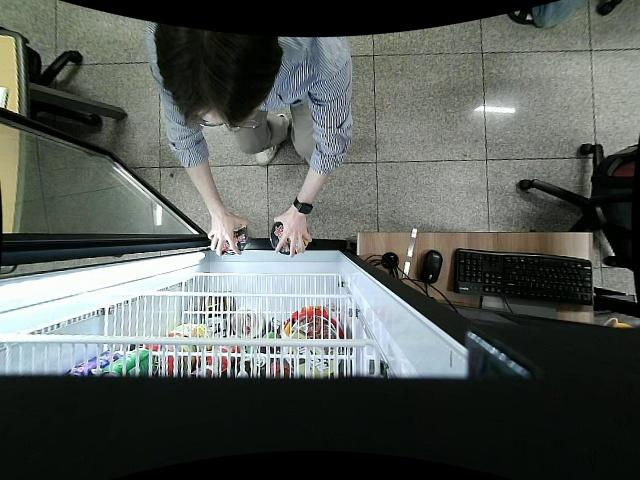00_hand: (270, 214, 311, 260), (210, 218, 250, 256)
07_buldak_L: (268, 223, 300, 256), (210, 229, 249, 255)
